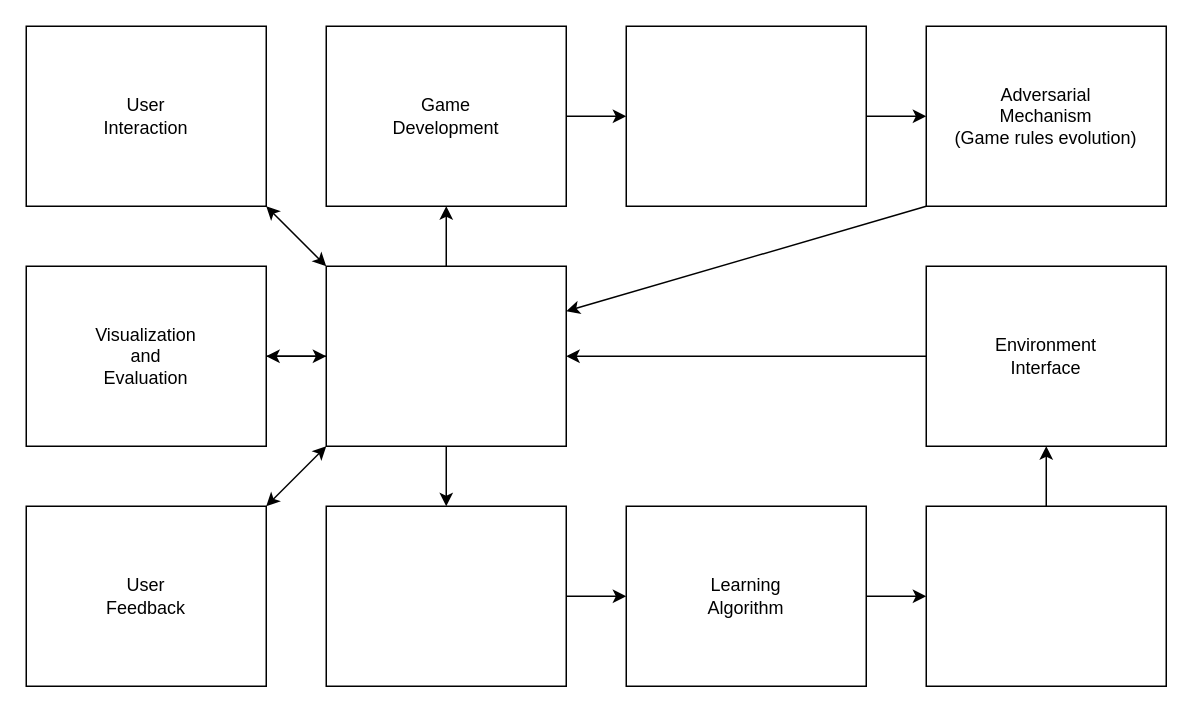
This 1193x713 diagram has some shape labels left out. The centre of each missing label's shape, as x and y in pixels:
"Game Evolution" belongs at point (745, 115).
"Reinforcement Learning Agent" belongs at point (445, 595).
"Training Loop" belongs at point (1045, 595).
"Unity Simulation Environment" belongs at point (445, 355).
